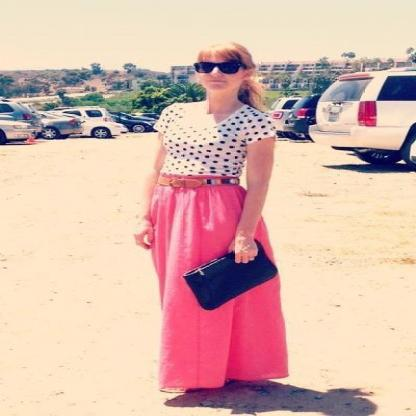bag: (187, 241, 277, 310)
shirt: (152, 100, 288, 188)
skirt: (134, 175, 287, 390)
sunglass: (194, 52, 246, 74)
